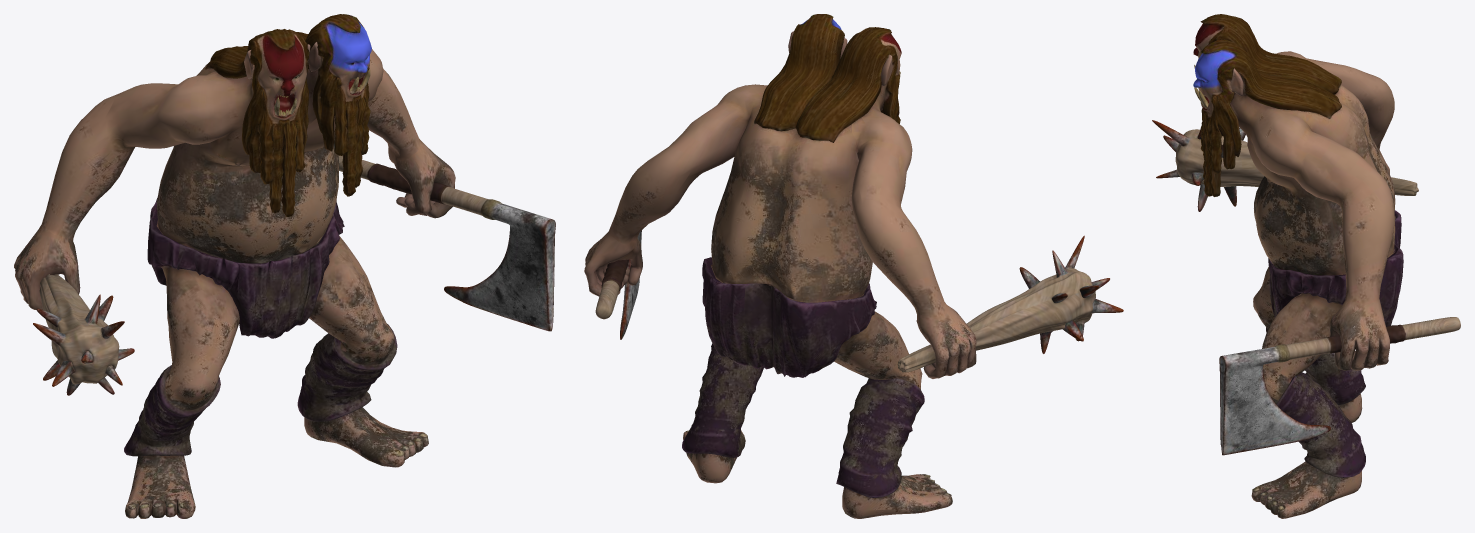
Rendered from MZ4250 - Ettin.glb.
3 views of the same model, side by side, from view 1: azimuth 30°, elevation 25°; view 2: azimuth 150°, elevation 25°; view 3: azimuth 270°, elevation 25° (orthographic). The views are drawn at different scales.
Parts seen in each view (by area): view 1: ORGANIC BASE SPHERE.001; view 2: ORGANIC BASE SPHERE.001; view 3: ORGANIC BASE SPHERE.001.
Part boxes in pixels (box(x1,y1,x2,y2)): ORGANIC BASE SPHERE.001: box(14, 14, 555, 518); ORGANIC BASE SPHERE.001: box(584, 14, 1123, 518); ORGANIC BASE SPHERE.001: box(1152, 14, 1460, 518).
Size of the model in its own units: 189 by 165 by 108.
1 material, 1 textured.
